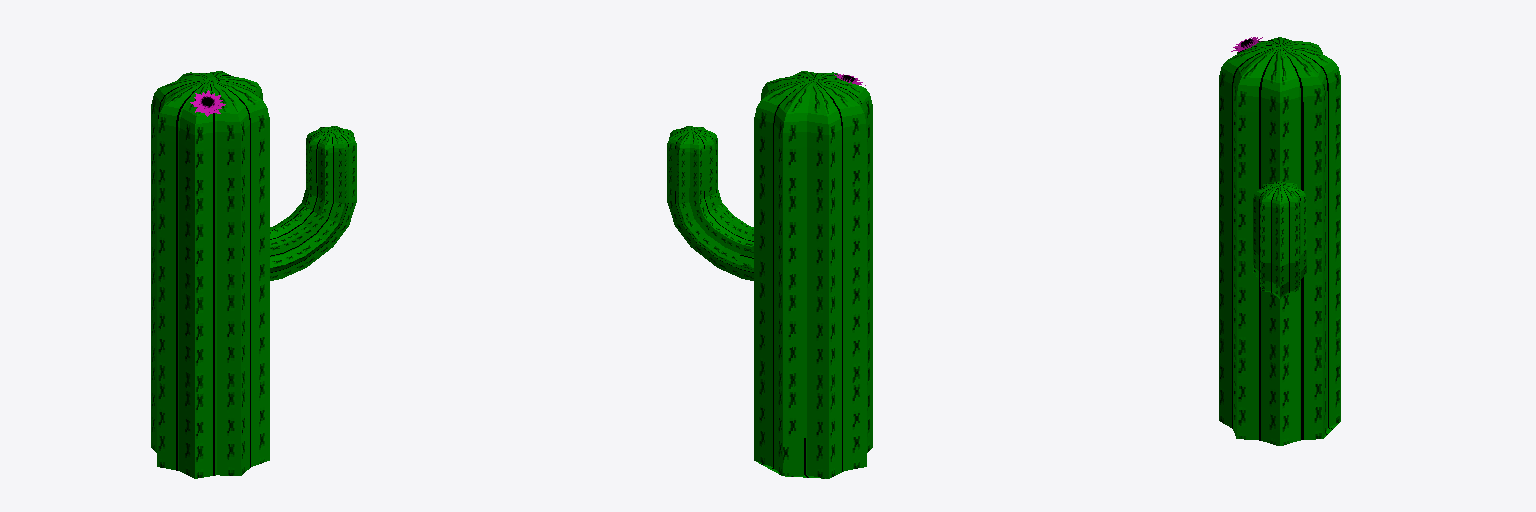
3 views of the same model, side by side, from view 1: azimuth 30°, elevation 25°; view 2: azimuth 150°, elevation 25°; view 3: azimuth 270°, elevation 25° (orthographic).
Visible parts, largest first — view 1: Cylinder; view 2: Cylinder; view 3: Cylinder.
Part boxes in pixels (x1,y1,x2,y2): Cylinder: (151,71,356,478); Cylinder: (667,71,872,478); Cylinder: (1219,37,1340,445).
Bounding box in the file's own units: 1.11 × 2.02 × 0.6.
1 materials, 1 textured.